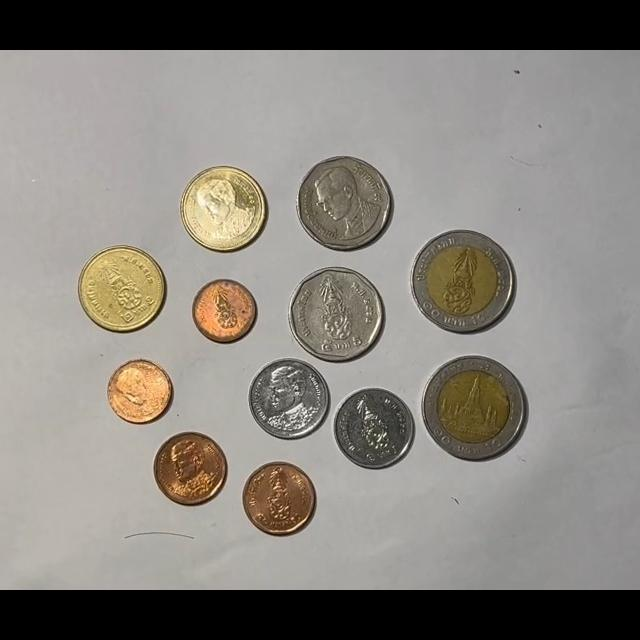1-baht: (332, 387, 415, 469), (248, 358, 329, 439)
10-baht: (422, 356, 528, 462), (410, 229, 516, 333)
2-baht: (78, 245, 166, 333), (180, 165, 268, 252)
25-satang: (107, 359, 173, 424), (192, 278, 258, 343)
5-baht: (288, 266, 385, 362), (296, 156, 393, 250)
50-satang: (242, 461, 316, 536), (154, 432, 227, 505)
